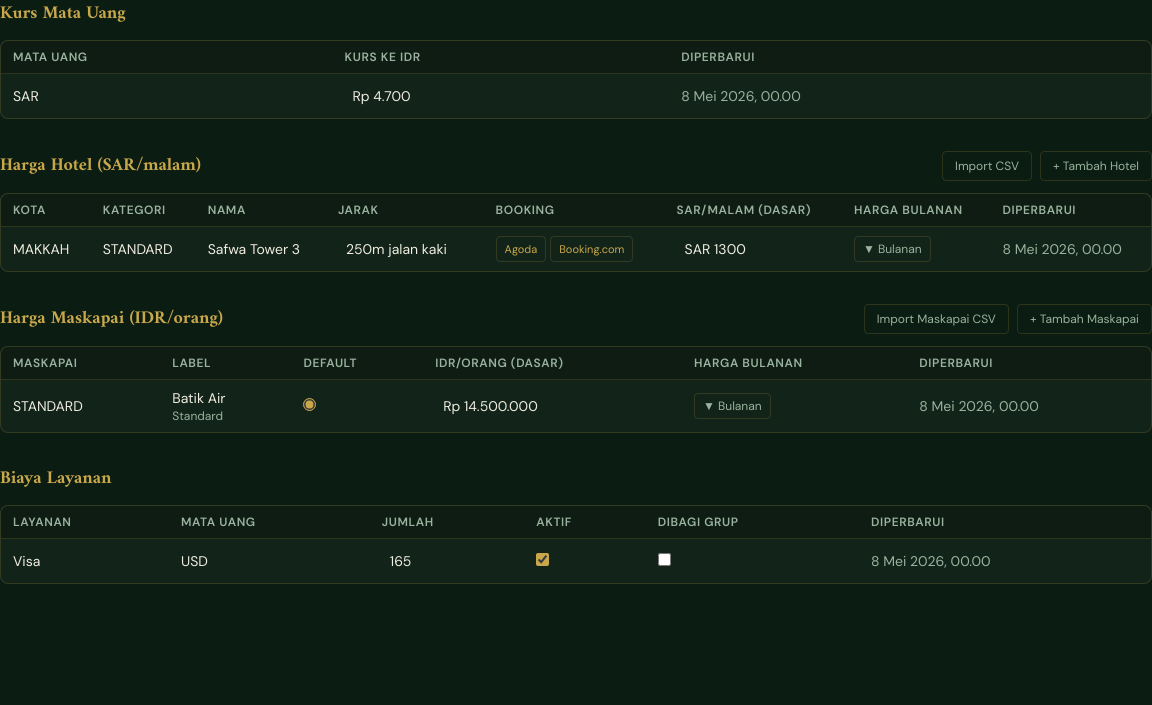
Scenario: PricingTable hotel CSV import › shows hotel distance in the table and manual add form
Check: the column heading "Jarak" is shown, box [326, 194, 484, 226]
Check: the column heading "Booking" is shown, box [484, 194, 664, 226]
Click the button "+ Tambah Hotel": click(1096, 166) [1040, 151, 1151, 181]
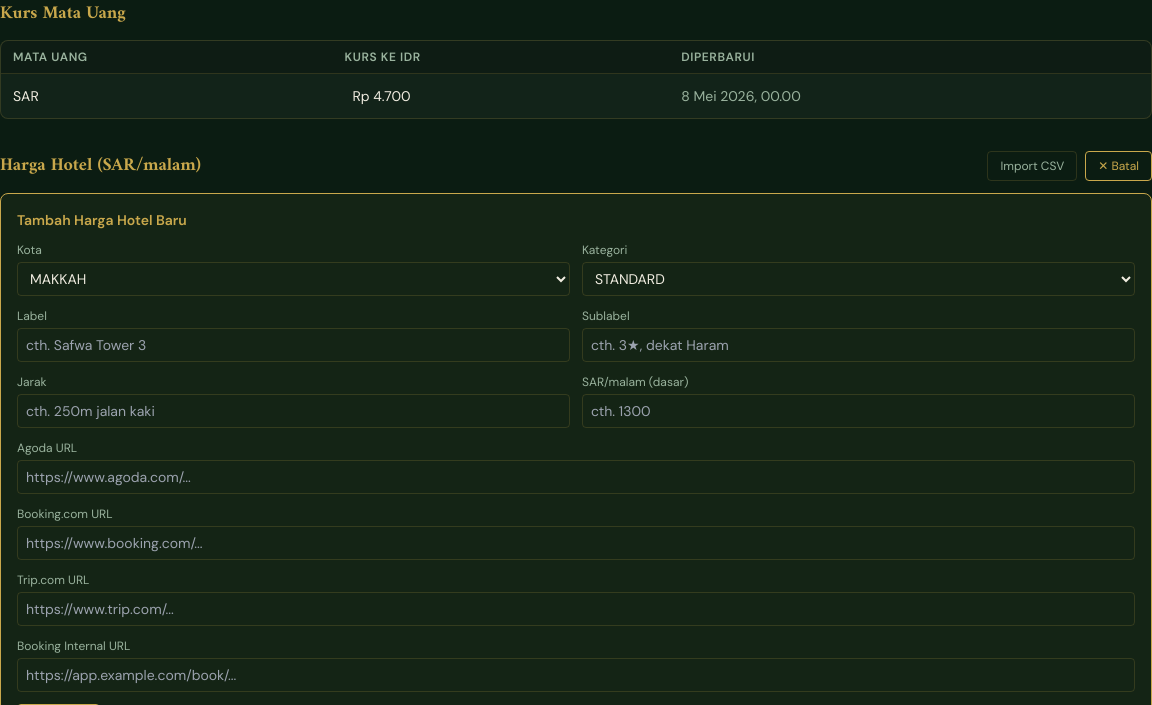
Check: the field with placeholder "cth. 250m jalan kaki" is shown, box [17, 394, 570, 428]
Check: the field with placeholder "https://www.agoda.com/..." is shown, box [17, 460, 1135, 494]
Check: the field with placeholder "https://www.booking.com/..." is shown, box [17, 526, 1135, 560]
